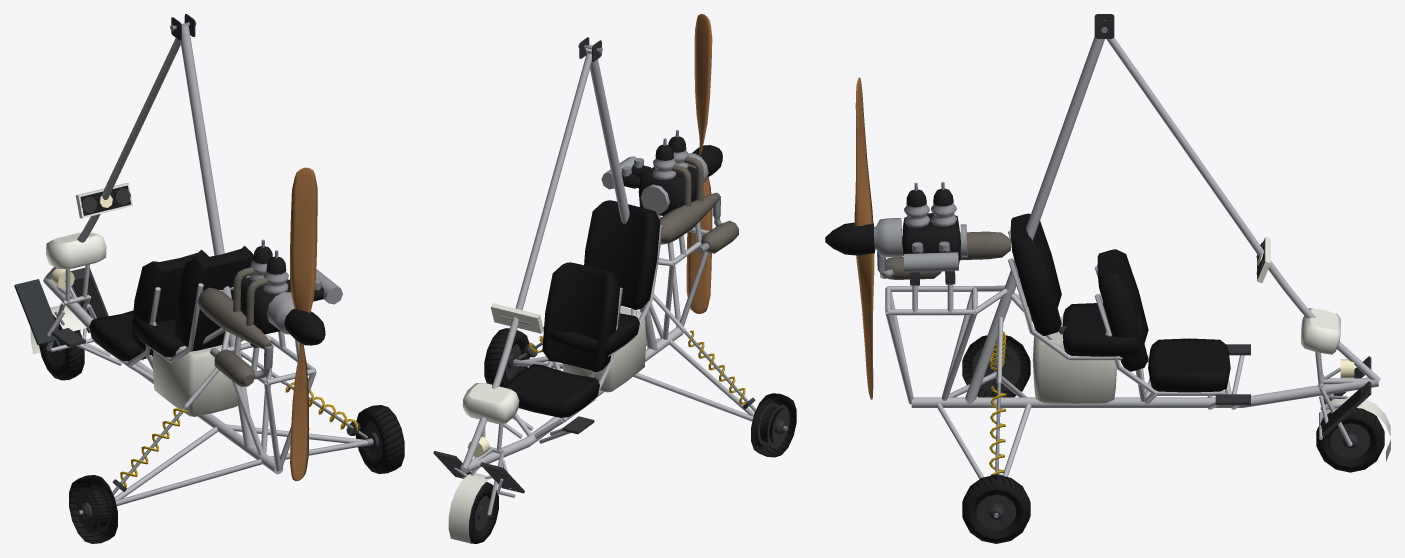
The model's file is trike.glb.
3 renders of one model, left to right at view 1: azimuth 30°, elevation 25°; view 2: azimuth 150°, elevation 25°; view 3: azimuth 270°, elevation 25°, orthographic. The views are drawn at different scales.
Parts seen in each view (by area): view 1: Trike_LOD0, Engine_LOD0, Prop_LOD0; view 2: Trike_LOD0, Engine_LOD0, Prop_LOD0; view 3: Trike_LOD0, Engine_LOD0, Prop_LOD0.
Boxes of the visible parts, x1,y1,x2,y2 form: Trike_LOD0: (14, 14, 404, 543); Engine_LOD0: (197, 239, 342, 386); Prop_LOD0: (284, 167, 325, 481); Trike_LOD0: (433, 37, 796, 543); Engine_LOD0: (601, 130, 738, 253); Prop_LOD0: (686, 14, 722, 313); Trike_LOD0: (885, 14, 1390, 543); Engine_LOD0: (874, 182, 1010, 285); Prop_LOD0: (825, 77, 874, 399).
Size of what is drawn, in the model's own units: 1.87 by 2.54 by 2.88.
Materials: 4 (1 with a texture image).
